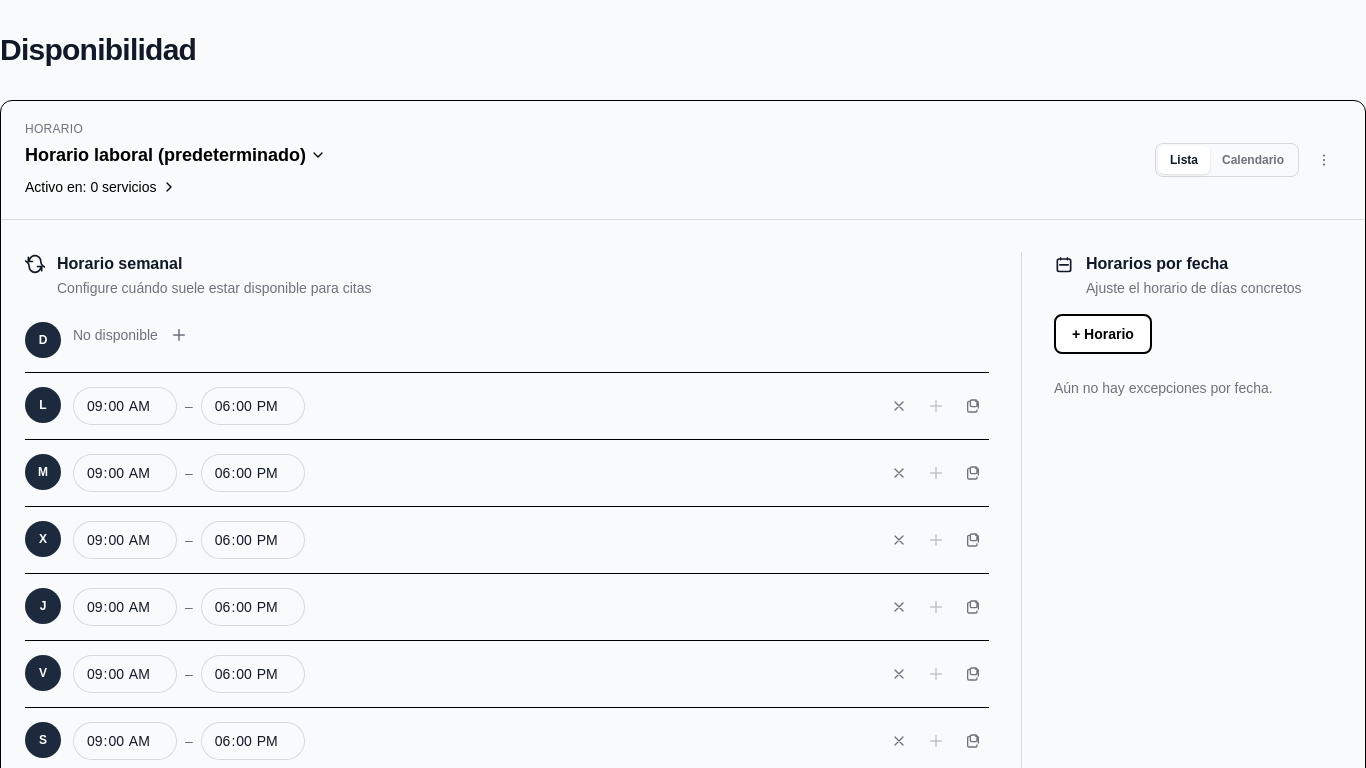
it: AdminAvailabilityPage › weekly hours › edits day times, saves with PUT, and shows success status
Expected: the heading "Horario semanal" is shown, [57,255,182,272]
Replace the text in the time field with id "from-mon" with "10:00" at (125, 406), box [73,387,177,425]
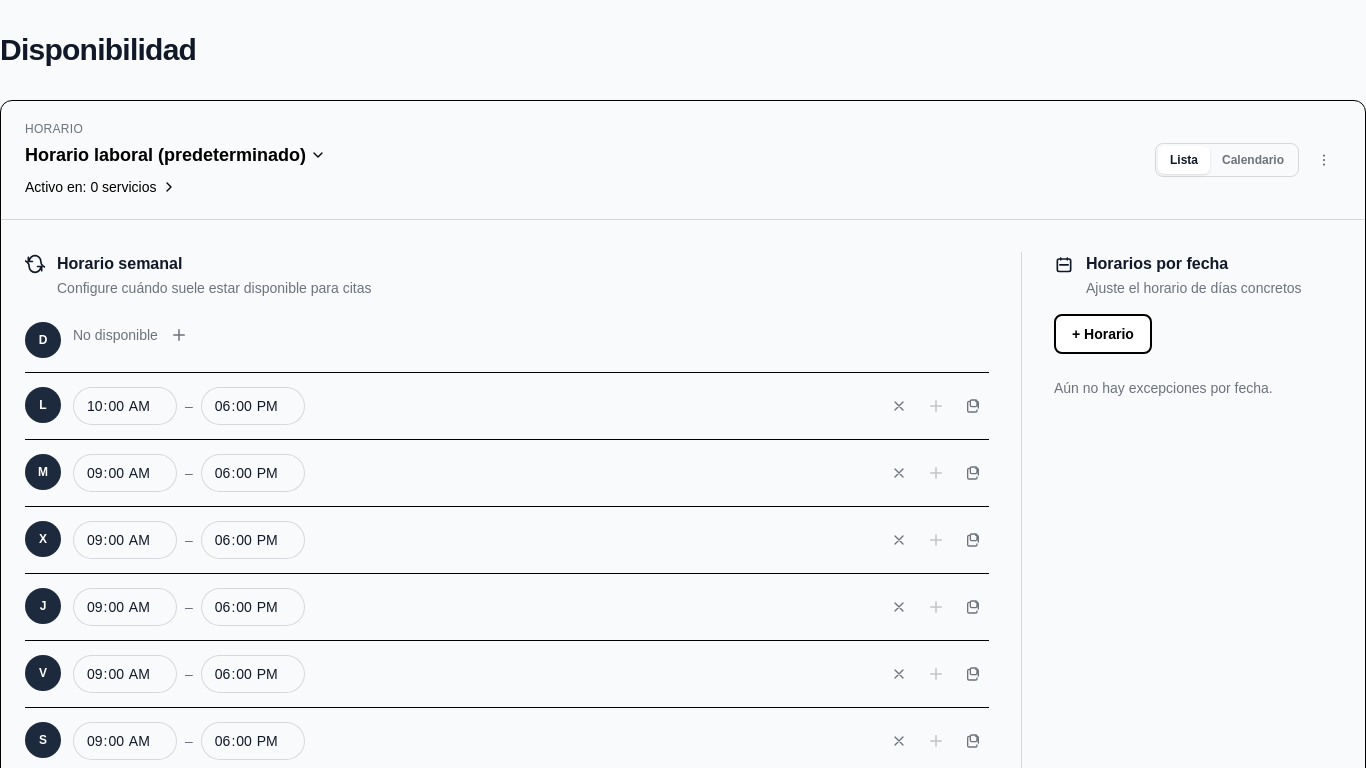
Replace the text in the time field with id "to-mon" with "14:00" at (253, 406), box [201,387,305,425]
(page scrolled)
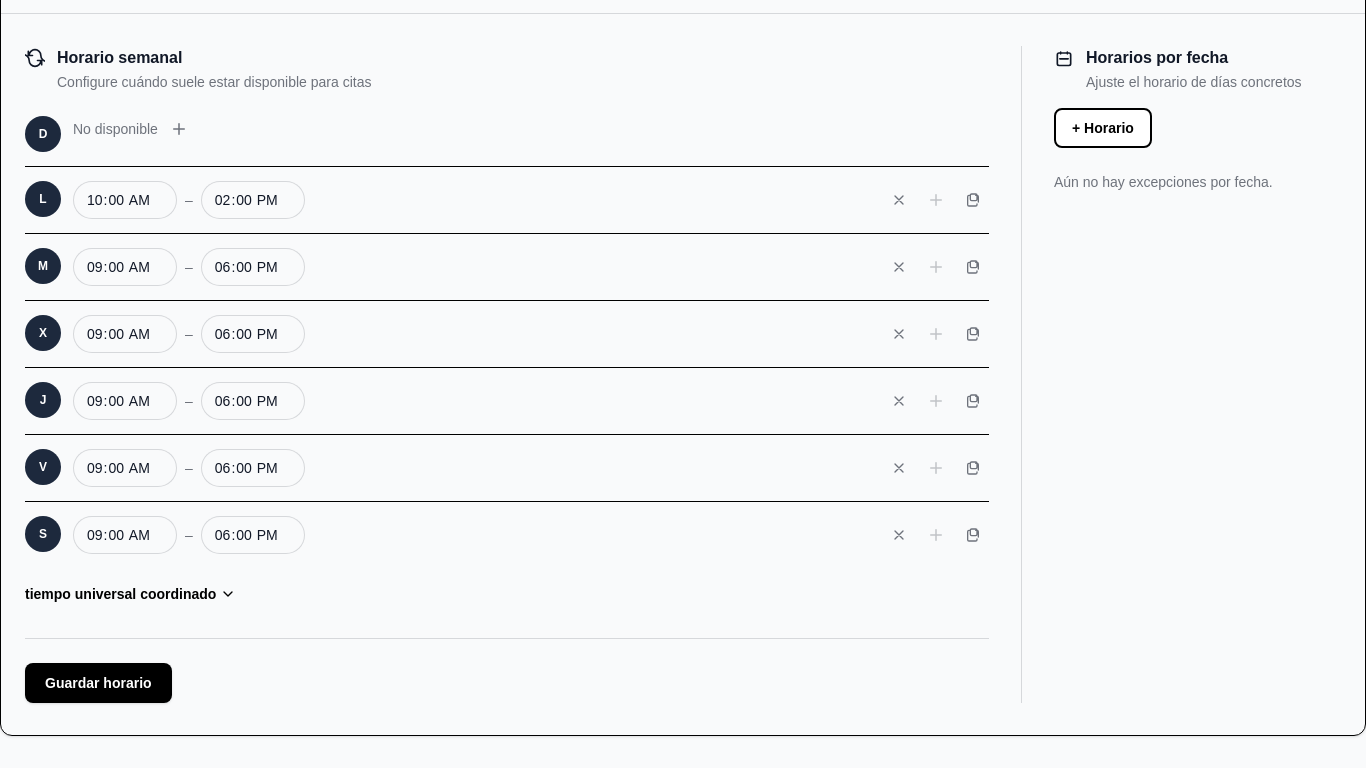
Click the button "Guardar horario" at (98, 683), box [25,663,172,703]
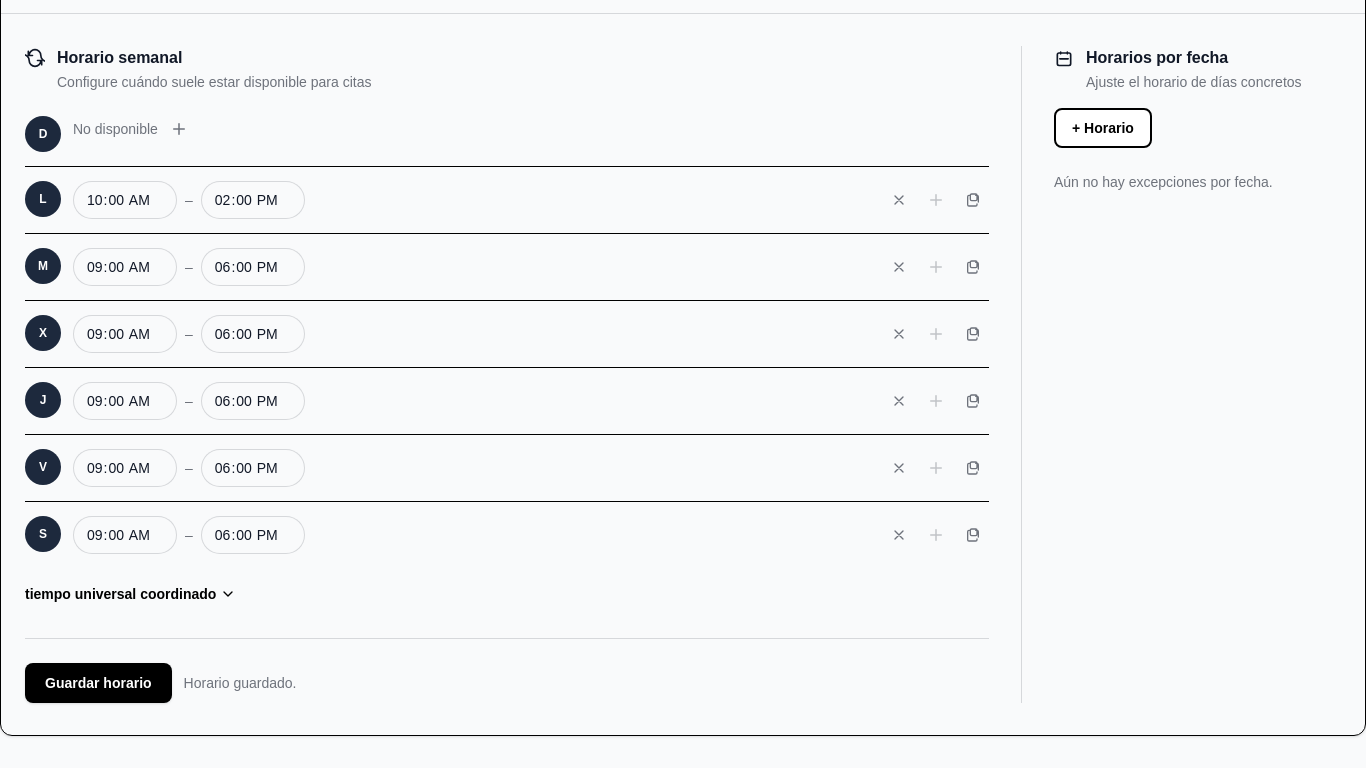
Now the message reads "Horario guardado.", box [184,675,296,691]
